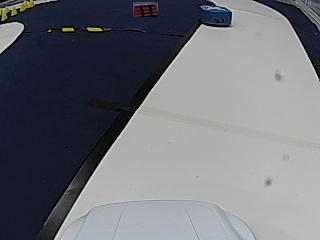prop: (200, 5, 231, 27)
